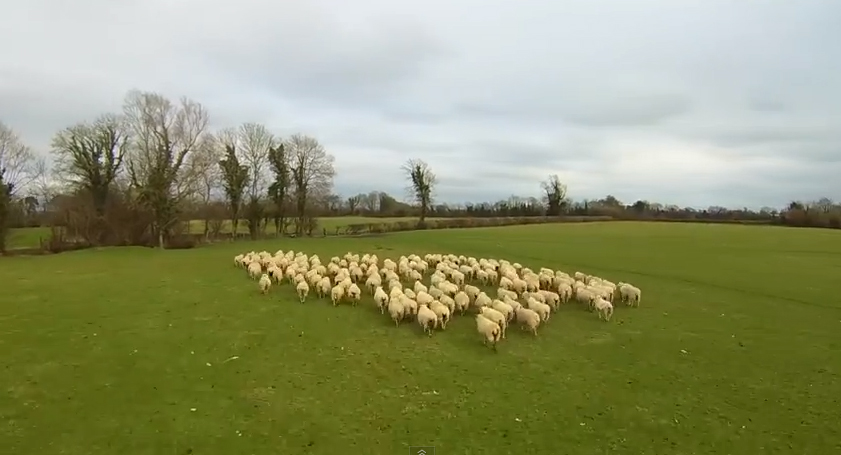sheep: (522, 291, 553, 326), (473, 312, 500, 352), (514, 304, 539, 337), (588, 293, 613, 323), (448, 285, 471, 317), (417, 302, 437, 337), (616, 280, 641, 306), (388, 295, 405, 329), (573, 285, 598, 306), (372, 286, 390, 315), (295, 276, 309, 302), (258, 273, 273, 297), (330, 283, 345, 305), (474, 264, 489, 286), (316, 277, 331, 297)
